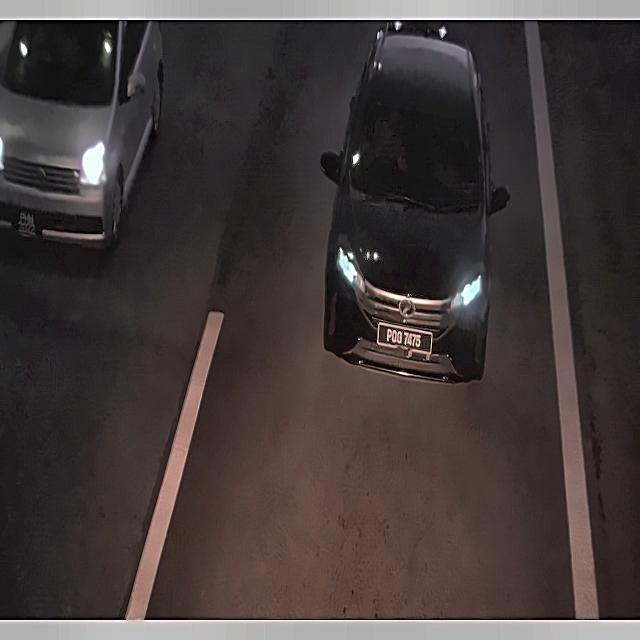car: (377, 318, 434, 357), (8, 204, 46, 243)
